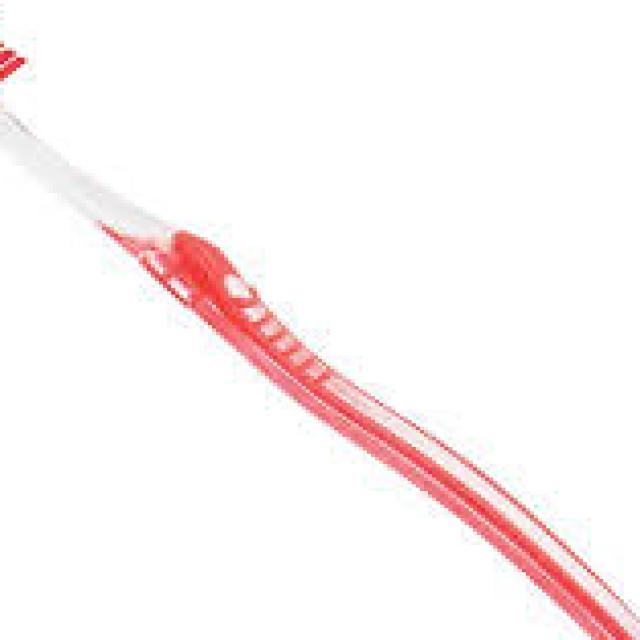organic: (3, 37, 638, 636)
